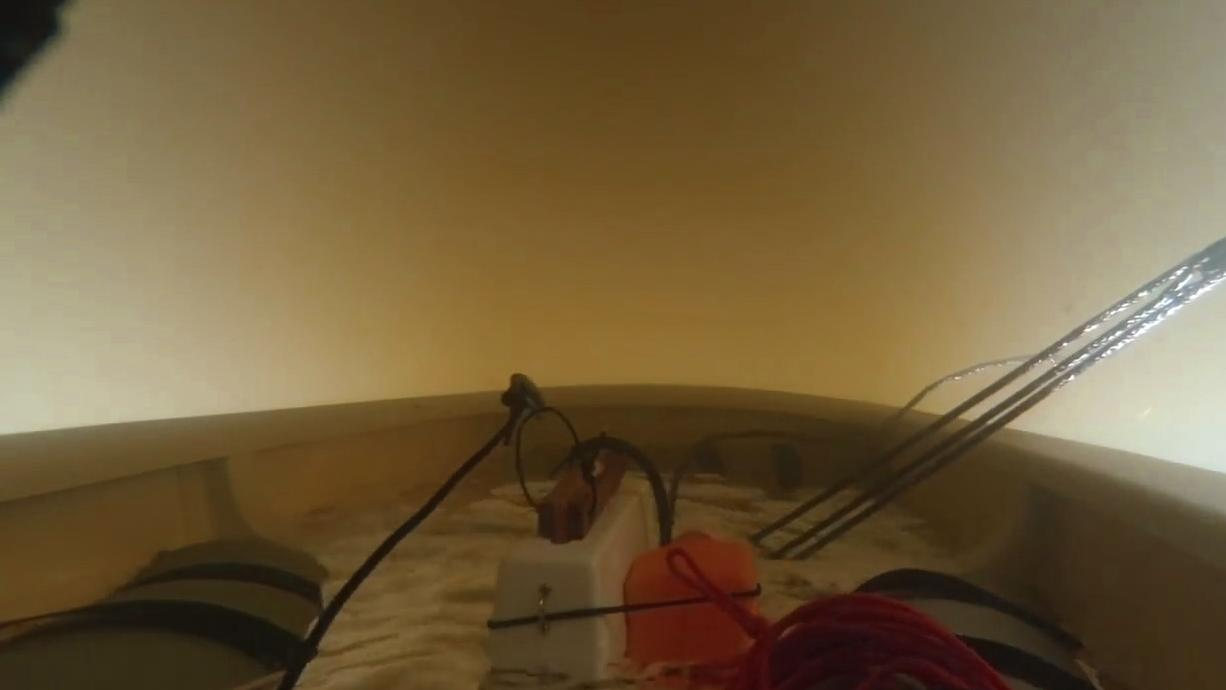boat: (0, 383, 1226, 690)
underwater: (0, 0, 1226, 690)
